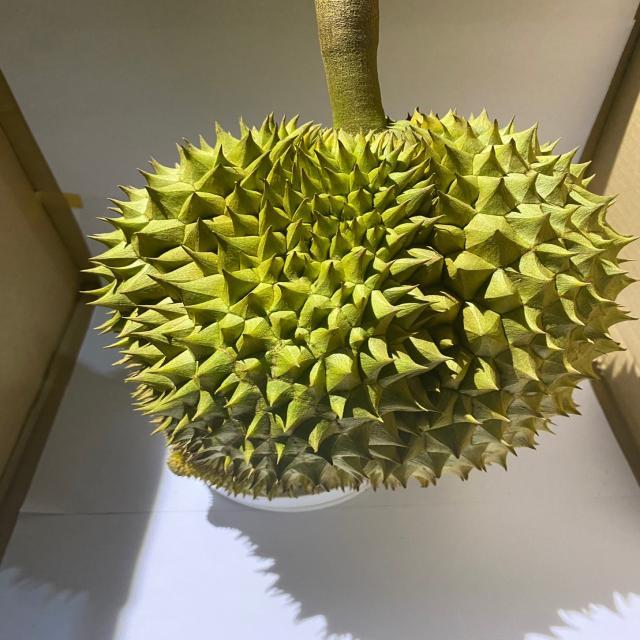immature: (78, 106, 640, 497)
